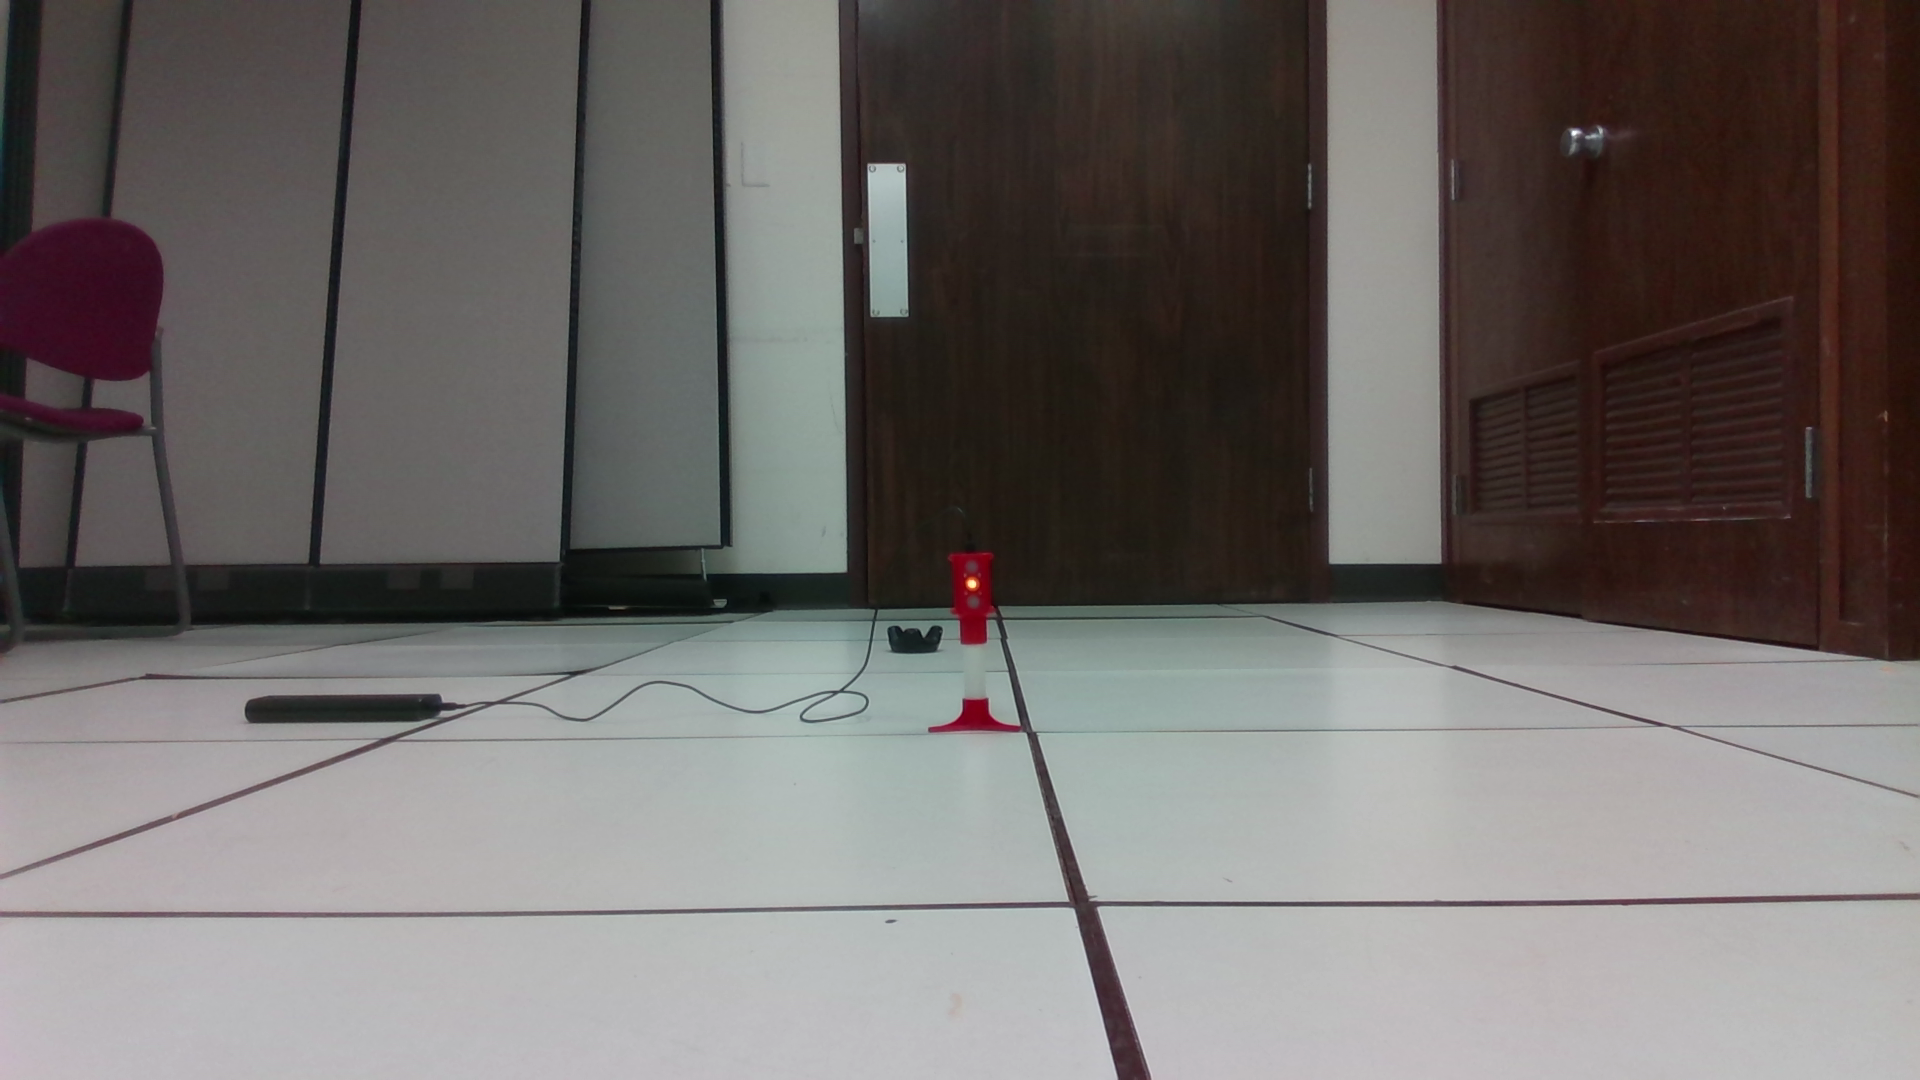stoplight: (945, 554, 997, 646)
